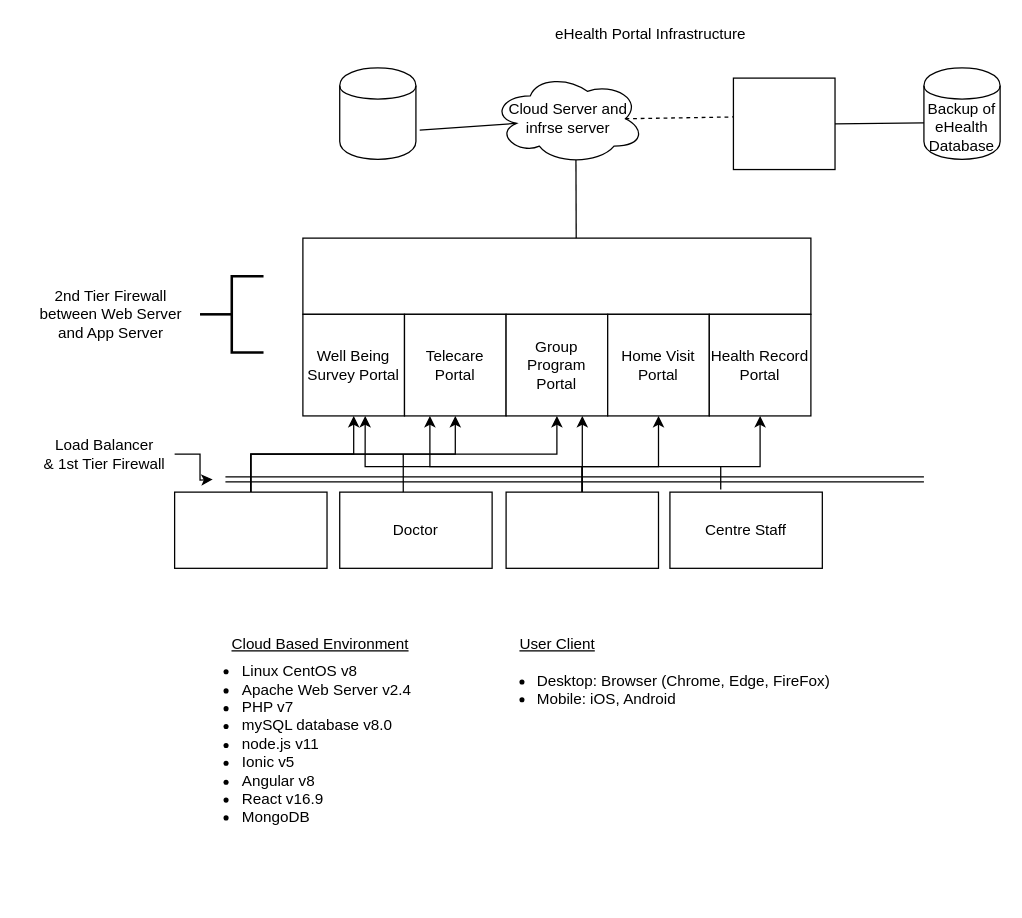
Image size: 1022x918. Some labels were removed from this diagram. Each missing label, with the centre of its shape:
"Backup Server" belongs at [783,123].
"eHealth Database" belongs at [377,113].
"eHealth Portal Platform" belongs at [556,275].
"Individual" belongs at [250,529].
"System Administration" belongs at [581,529].
